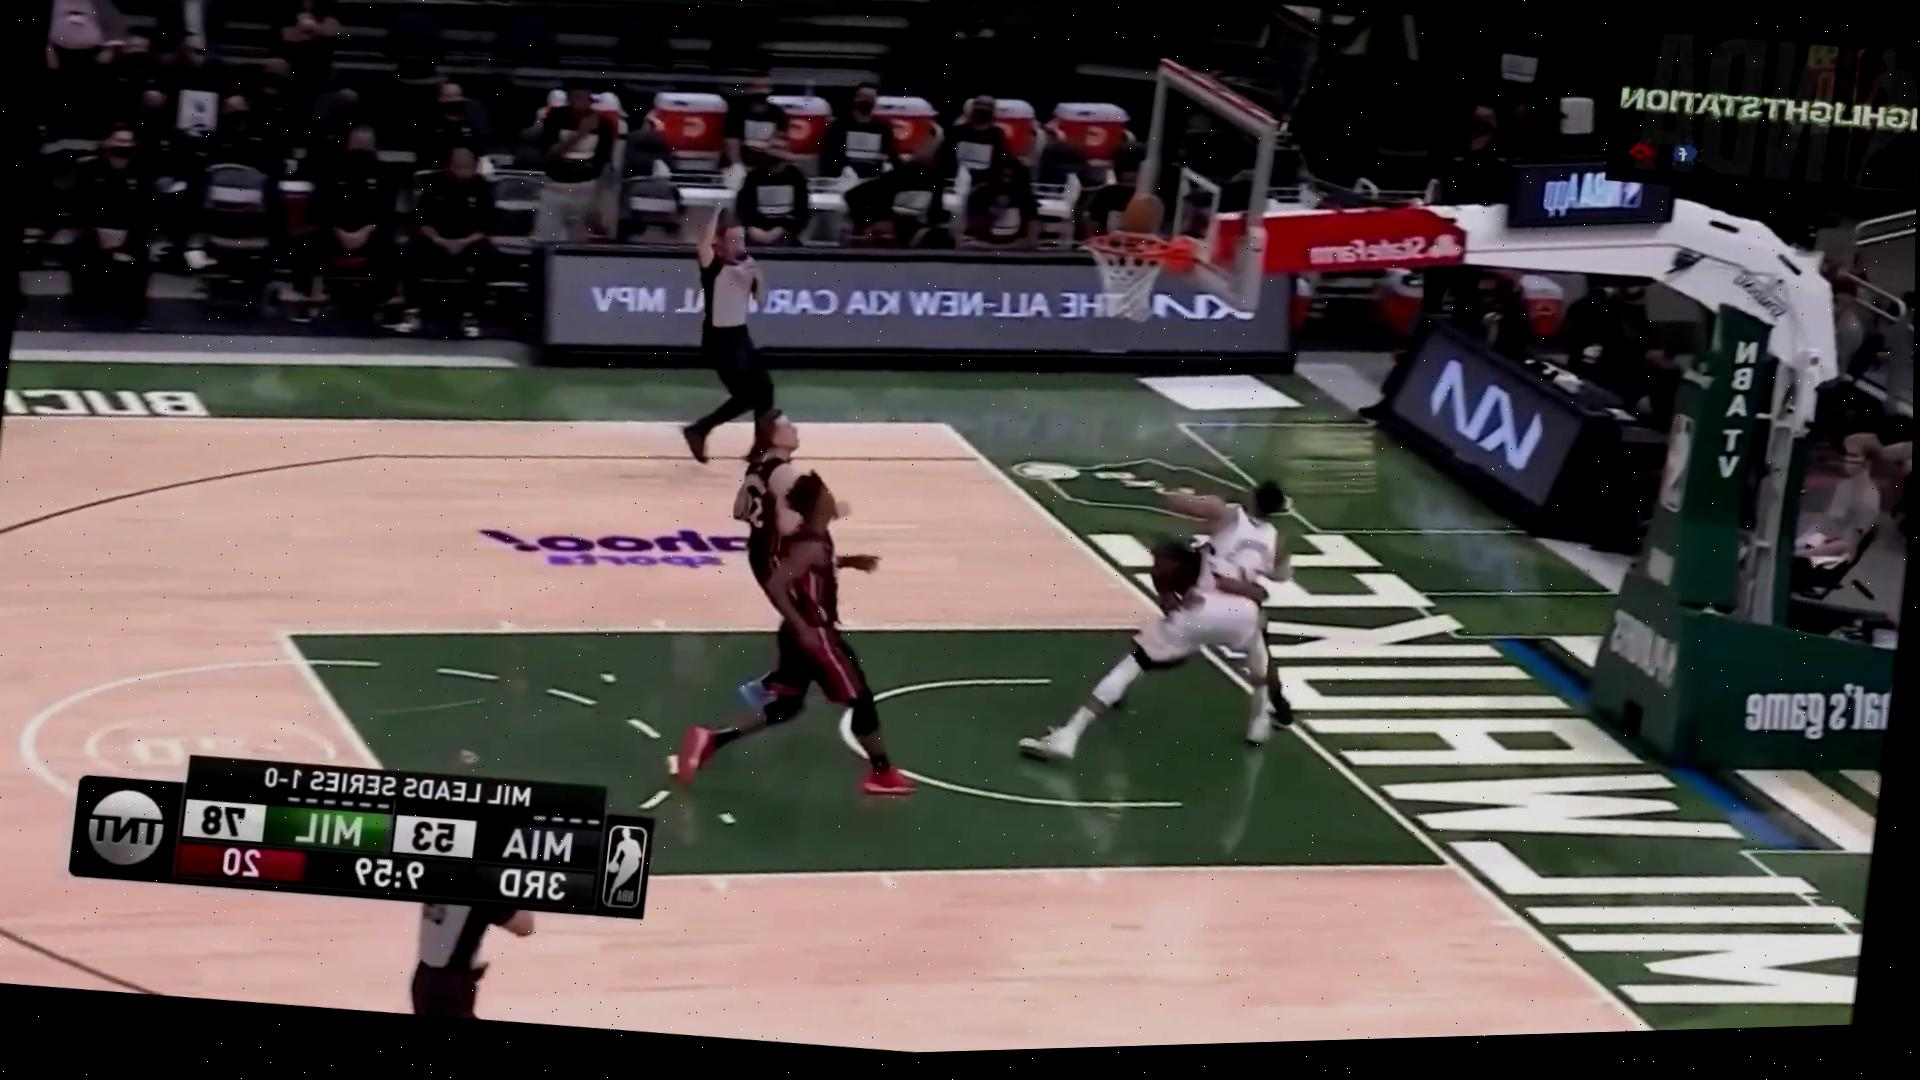foul: (1027, 444, 1328, 771)
